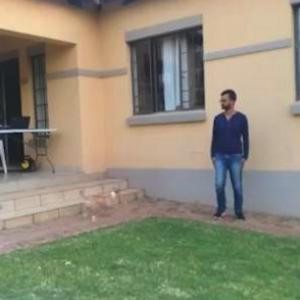follow: (198, 95, 237, 223)
